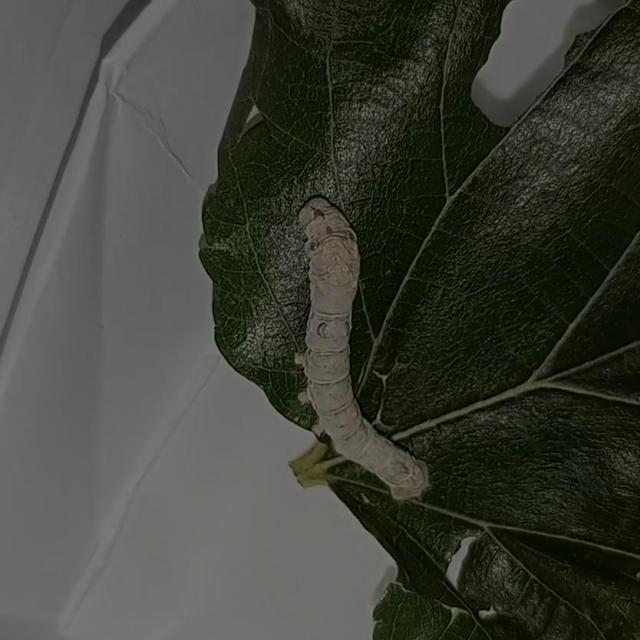Healthy: (267, 185, 440, 507)
